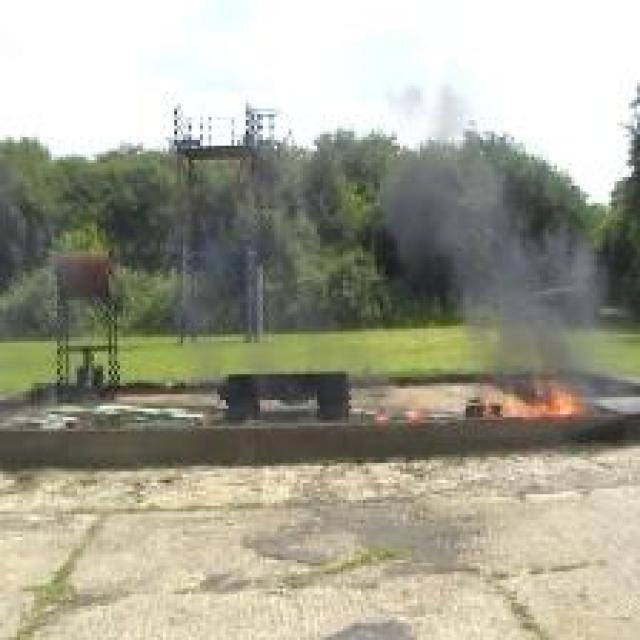Fire: (502, 382, 578, 418)
